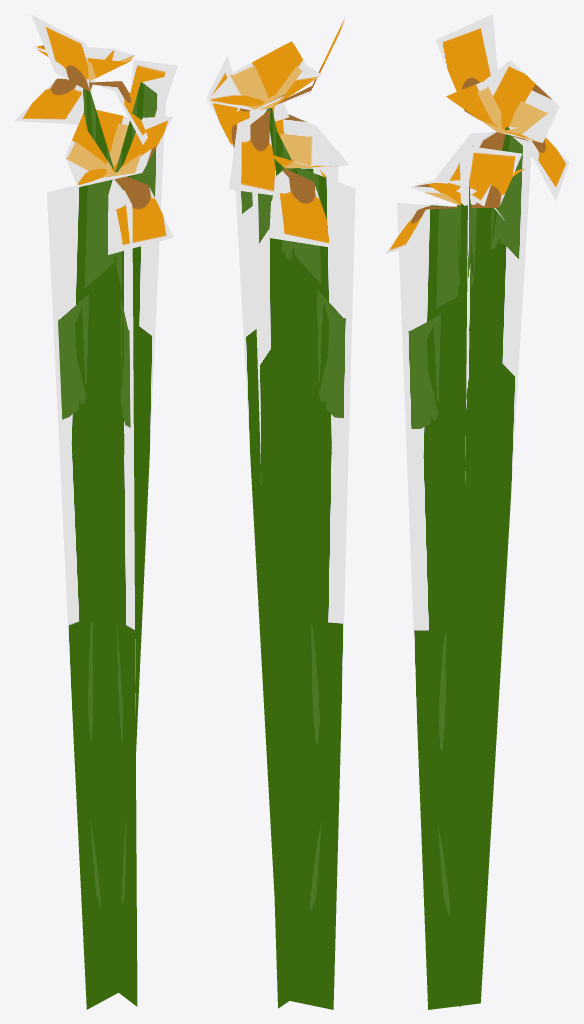
File: PT_Iris_02.fbx
3 renders of one model, left to right at view 1: azimuth 30°, elevation 25°; view 2: azimuth 150°, elevation 25°; view 3: azimuth 270°, elevation 25°, orthographic. The views are drawn at different scales.
Visible parts, largest first — view 1: PT_Iris_02_LOD0; view 2: PT_Iris_02_LOD0; view 3: PT_Iris_02_LOD0.
Boxes of the visible parts, box(x1,y1,x2,y2) form: PT_Iris_02_LOD0: box(14, 14, 177, 1009); PT_Iris_02_LOD0: box(206, 15, 355, 1009); PT_Iris_02_LOD0: box(385, 14, 569, 1009).
Size of what is drawn, in the model's own units: 18.84 by 136 by 23.82.
